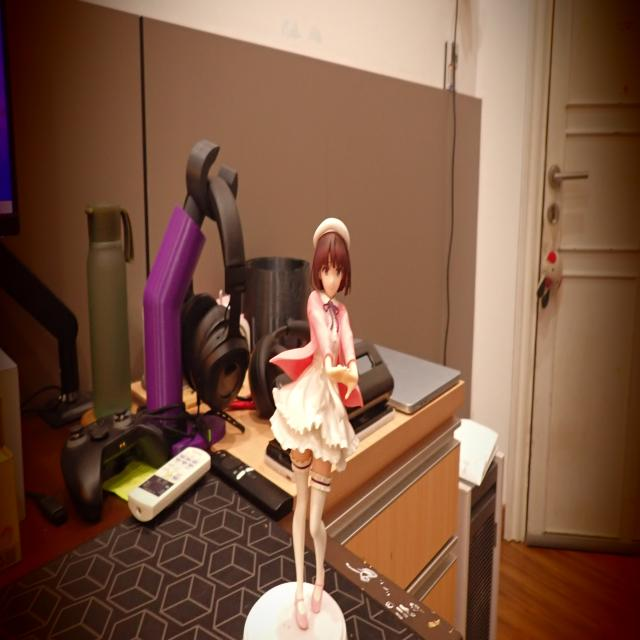My-pink-anime-figure: (271, 218, 362, 628)
